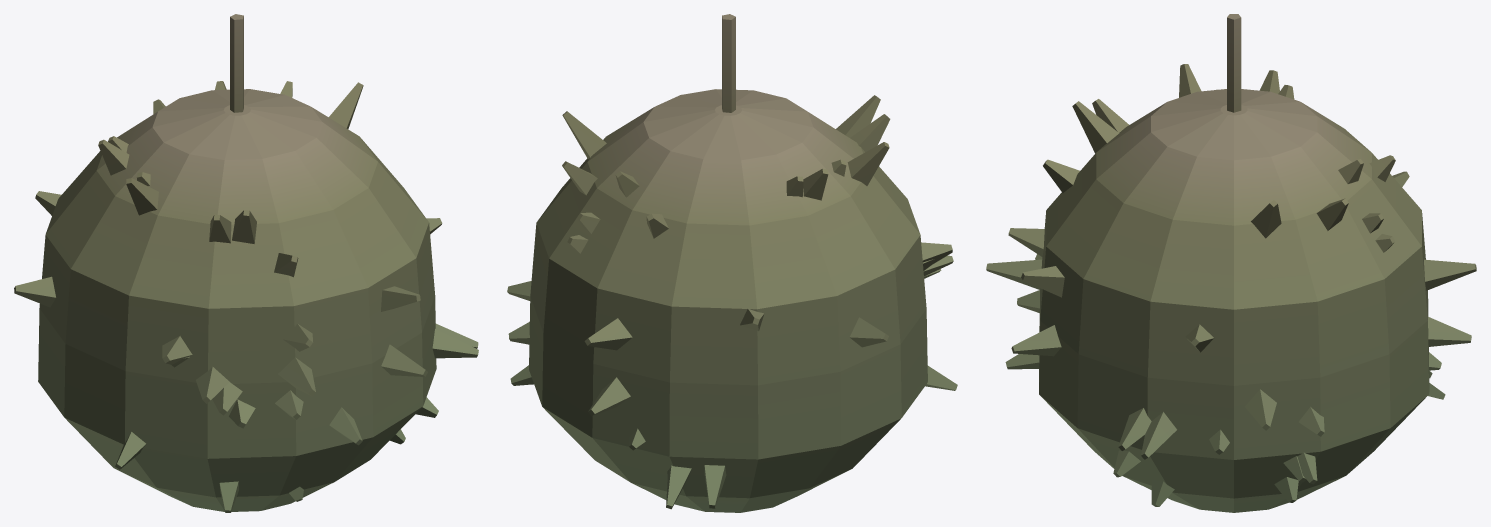
Rendered from prop_sugidama.glb.
3 views of the same model, side by side, from view 1: azimuth 30°, elevation 25°; view 2: azimuth 150°, elevation 25°; view 3: azimuth 270°, elevation 25° (orthographic).
Parts seen in each view (by area): view 1: prop_sugidama; view 2: prop_sugidama; view 3: prop_sugidama.
Boxes of the visible parts, x1=… form: prop_sugidama: x1=14, y1=14, x2=478, y2=512; prop_sugidama: x1=507, y1=14, x2=957, y2=512; prop_sugidama: x1=986, y1=14, x2=1476, y2=512.
Size of the model in its own units: 0.6672 by 0.77 by 0.7168.
